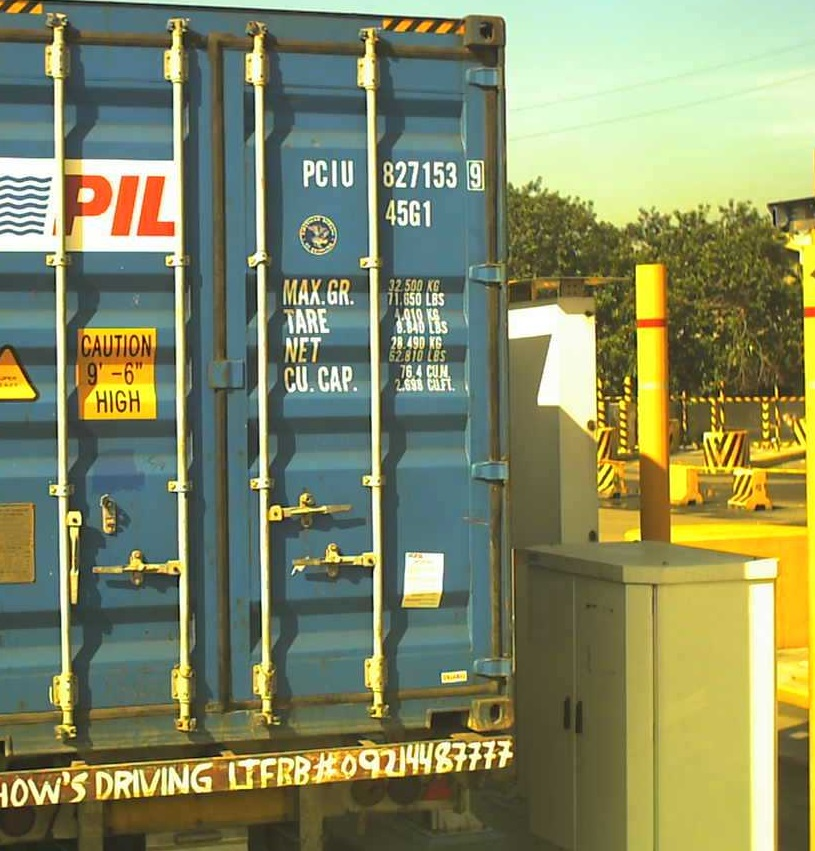container_door: (3, 12, 509, 765)
